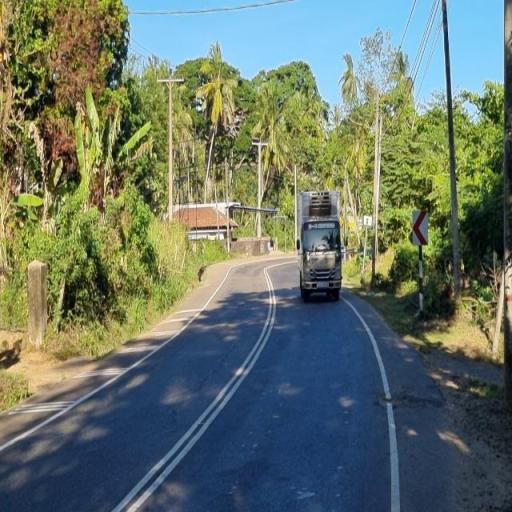double_white_line: (109, 256, 281, 512)
